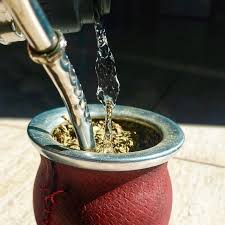guampa: (4, 4, 184, 225)
